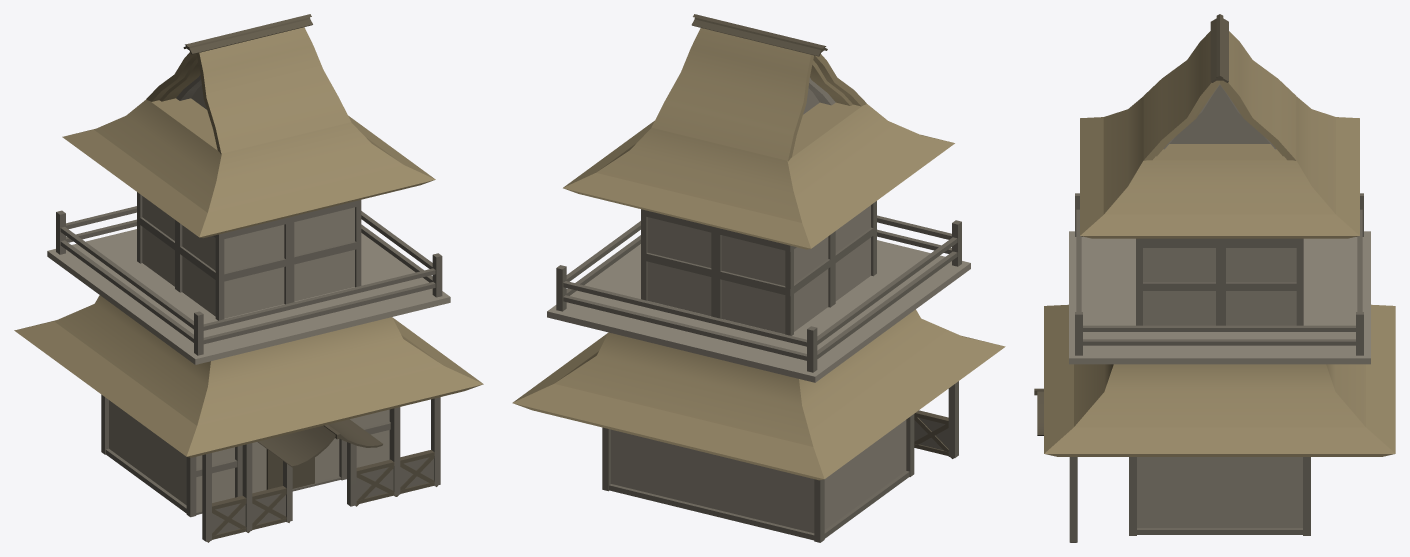
The model's file is House_1.fbx.
3 renders of one model, left to right at view 1: azimuth 30°, elevation 25°; view 2: azimuth 150°, elevation 25°; view 3: azimuth 270°, elevation 25°, orthographic. The views are drawn at different scales.
Parts seen in each view (by area): view 1: House_1; view 2: House_1; view 3: House_1.
Boxes of the visible parts, bbox=[...] form: House_1: bbox=[14, 14, 483, 542]; House_1: bbox=[512, 14, 1005, 542]; House_1: bbox=[1034, 14, 1395, 542].
Size of the model in its own units: 1101 by 1530 by 1137.
